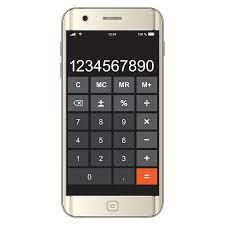Calculator: (66, 53, 165, 194)
